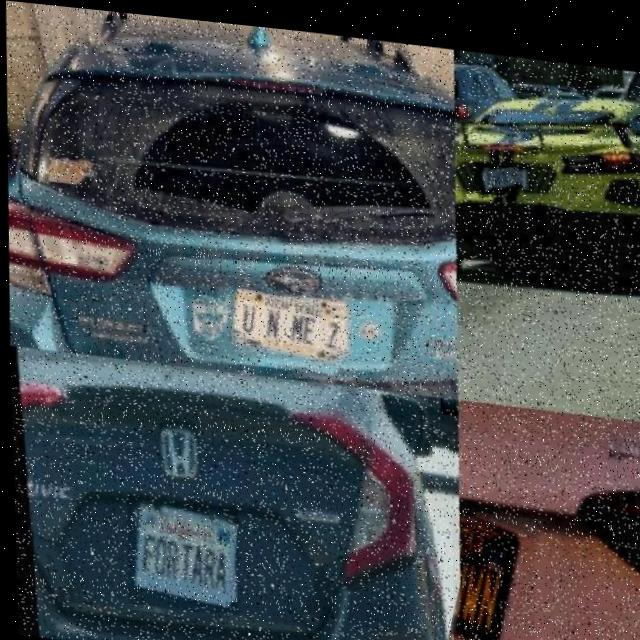LicensePlate: (121, 491, 237, 612), (446, 501, 533, 640), (216, 282, 342, 363), (473, 155, 522, 188), (437, 388, 457, 406)
